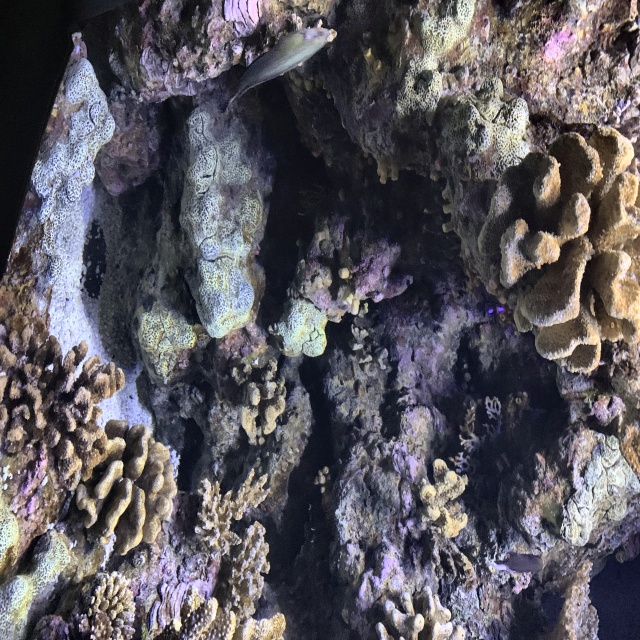fish: (220, 23, 334, 117), (496, 553, 543, 575)
